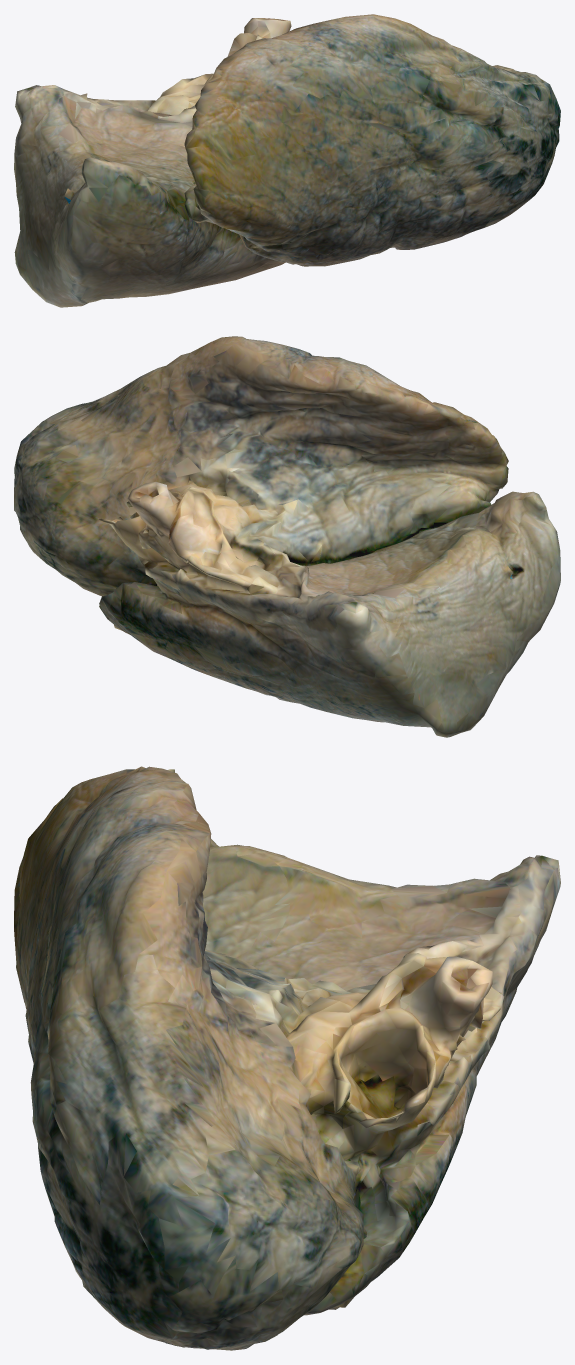
File: lung_smoke.glb
3 renders of one model, top to bottom at view 1: azimuth 30°, elevation 25°; view 2: azimuth 150°, elevation 25°; view 3: azimuth 270°, elevation 25°, orthographic. The views are drawn at different scales.
Parts seen in each view (by area): view 1: Lung; view 2: Lung; view 3: Lung.
Boxes of the visible parts, x1,y1,x2,y2 form: Lung: (14, 14, 560, 307); Lung: (14, 336, 560, 737); Lung: (14, 766, 560, 1350).
Bounding box in the file's own units: 40.92 × 21.2 × 23.97.
Materials: 2 (2 with a texture image).
